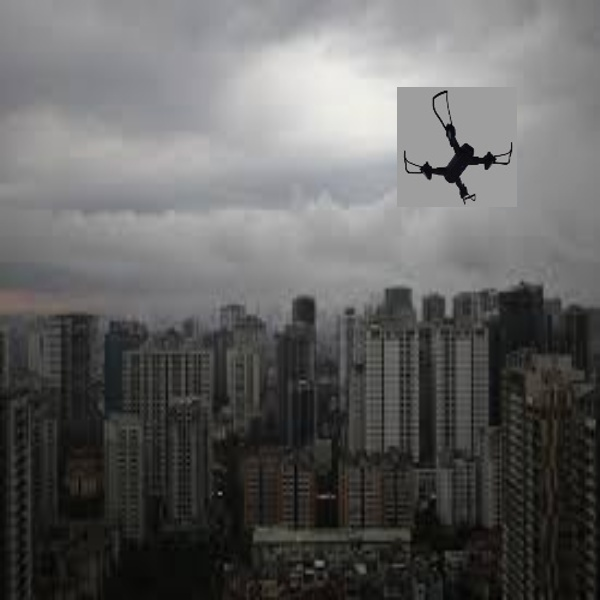drone: (399, 86, 517, 204)
